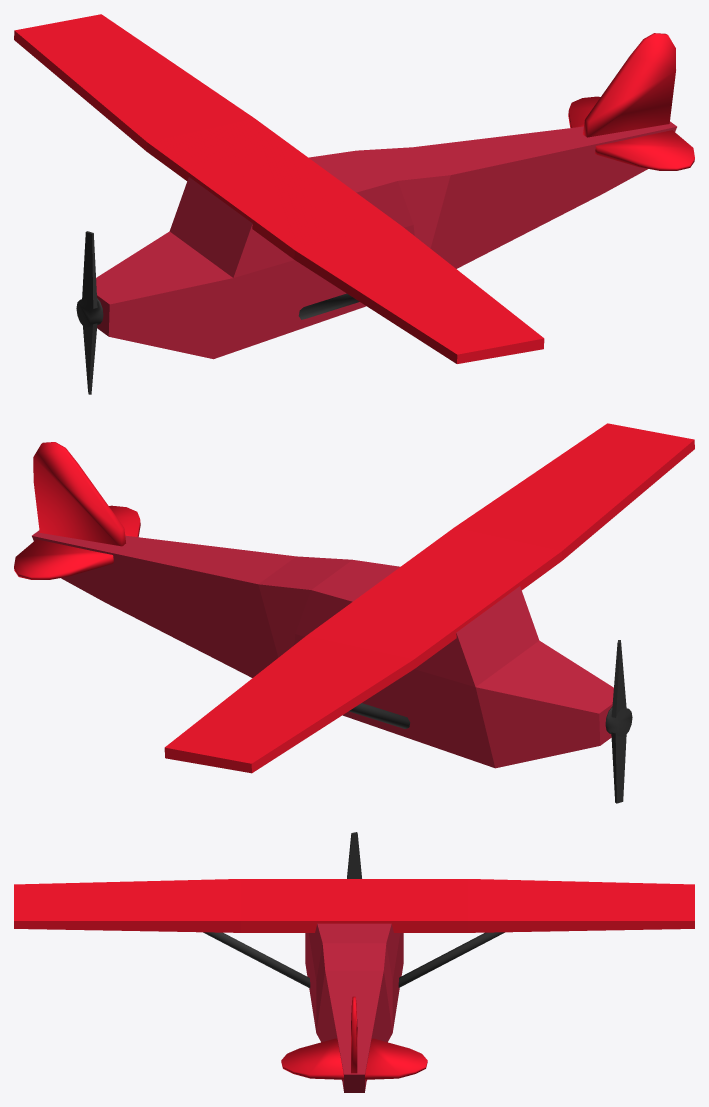
3 views of the same model, one above another, from view 1: azimuth 30°, elevation 25°; view 2: azimuth 150°, elevation 25°; view 3: azimuth 270°, elevation 25° (orthographic). The views are drawn at different scales.
Visible parts, largest first — view 1: Base, Prop; view 2: Base, Prop; view 3: Base, Prop.
Part boxes in pixels (left/top/right/bottom): Base: left=14, top=14, right=694, bottom=363; Prop: left=76, top=231, right=103, bottom=394; Base: left=14, top=423, right=694, bottom=773; Prop: left=605, top=640, right=632, bottom=803; Base: left=14, top=879, right=694, bottom=1092; Prop: left=347, top=832, right=361, bottom=878.
Bounding box in the file's own units: 1000 × 771 × 276.
